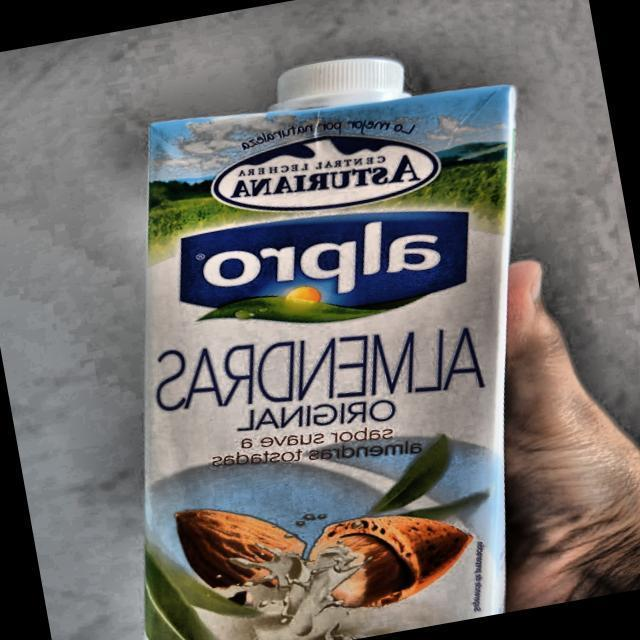cardboard: (38, 48, 605, 640)
